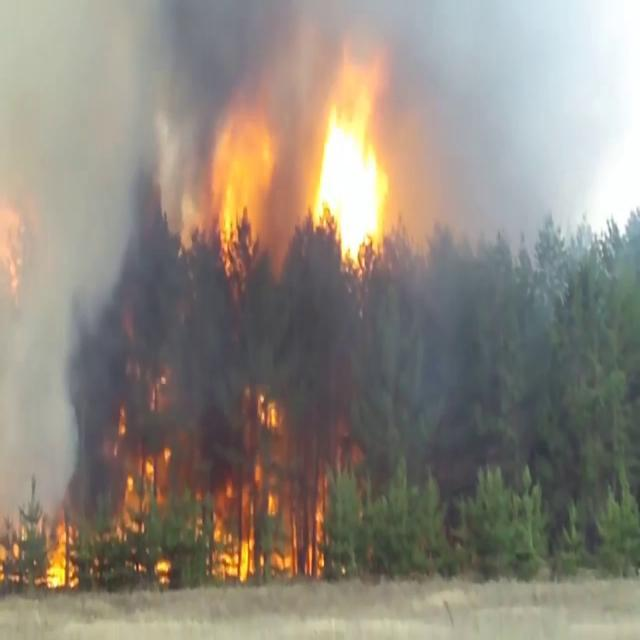Fire: (203, 380, 344, 586), (188, 88, 274, 282), (310, 65, 392, 268), (112, 382, 170, 550), (42, 511, 82, 594)
Smoke: (0, 0, 300, 533)
